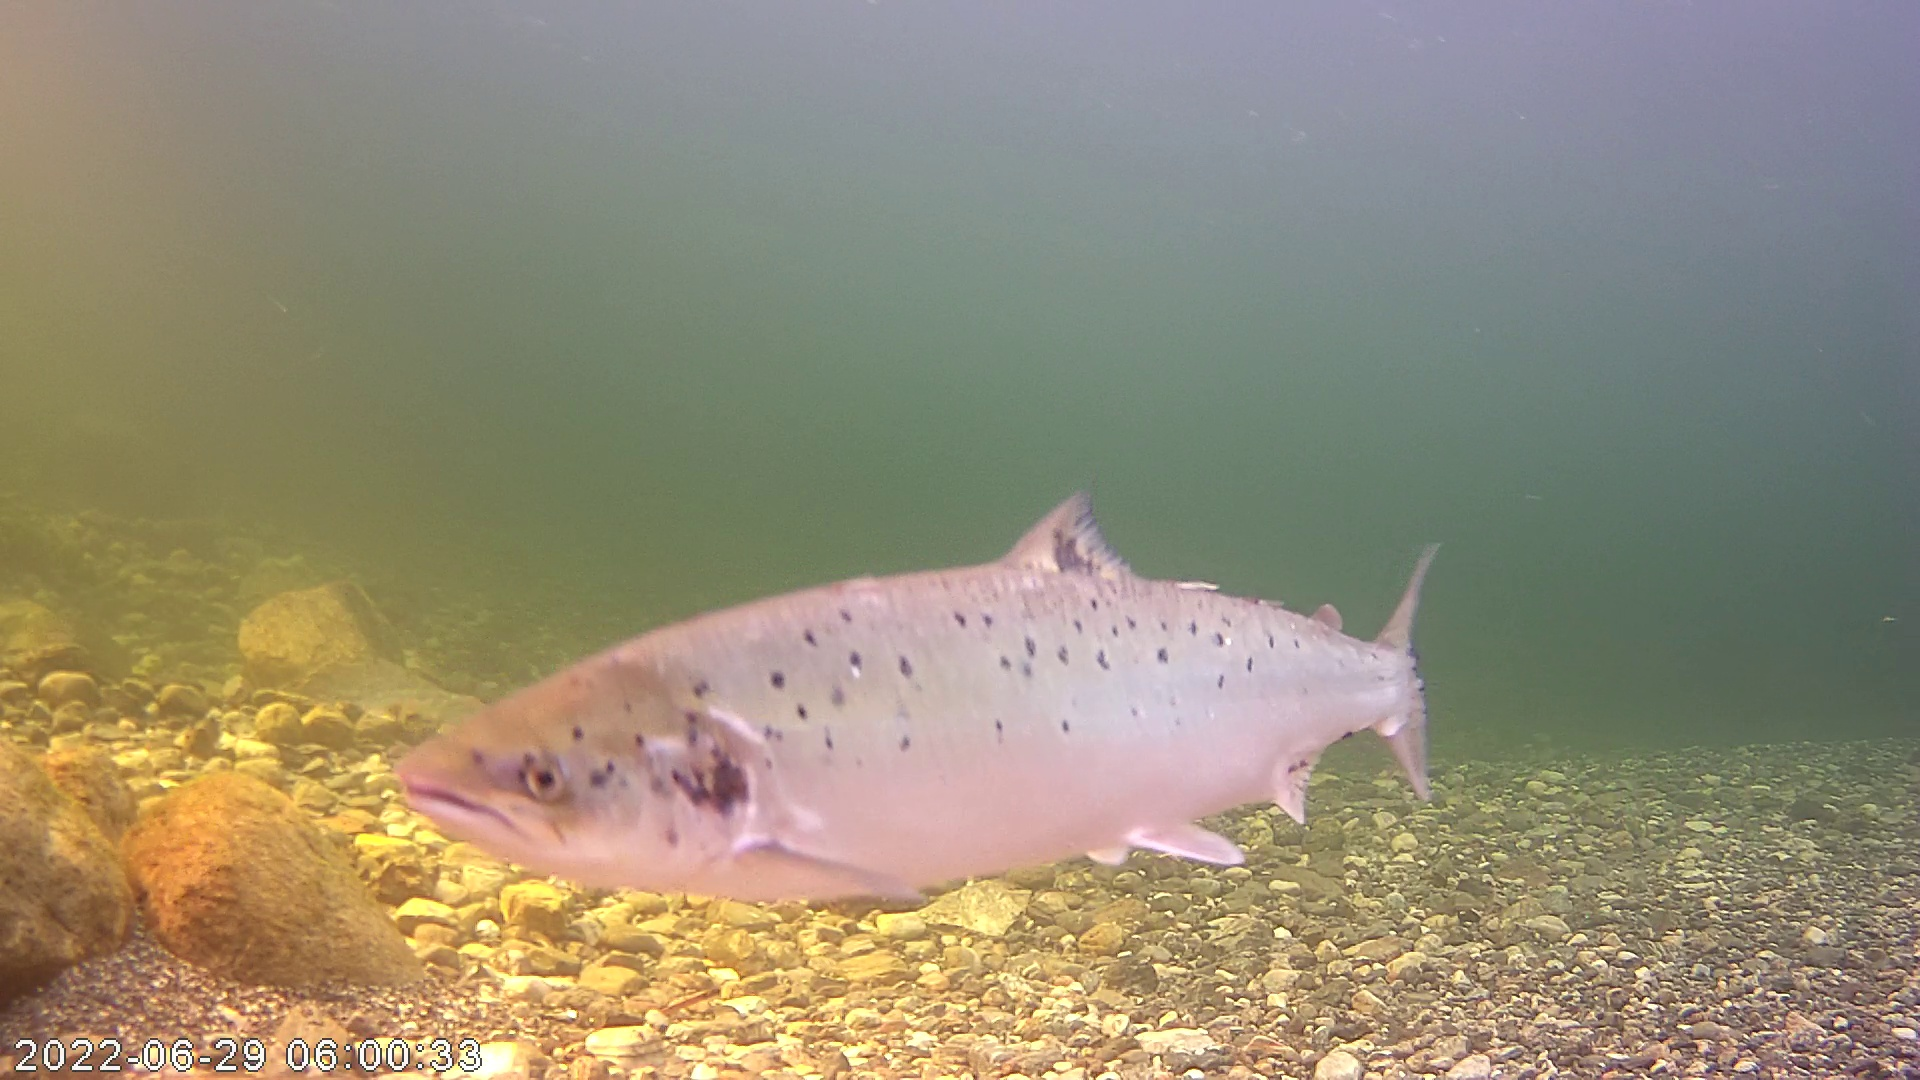salmon: (315, 423, 1435, 934)
